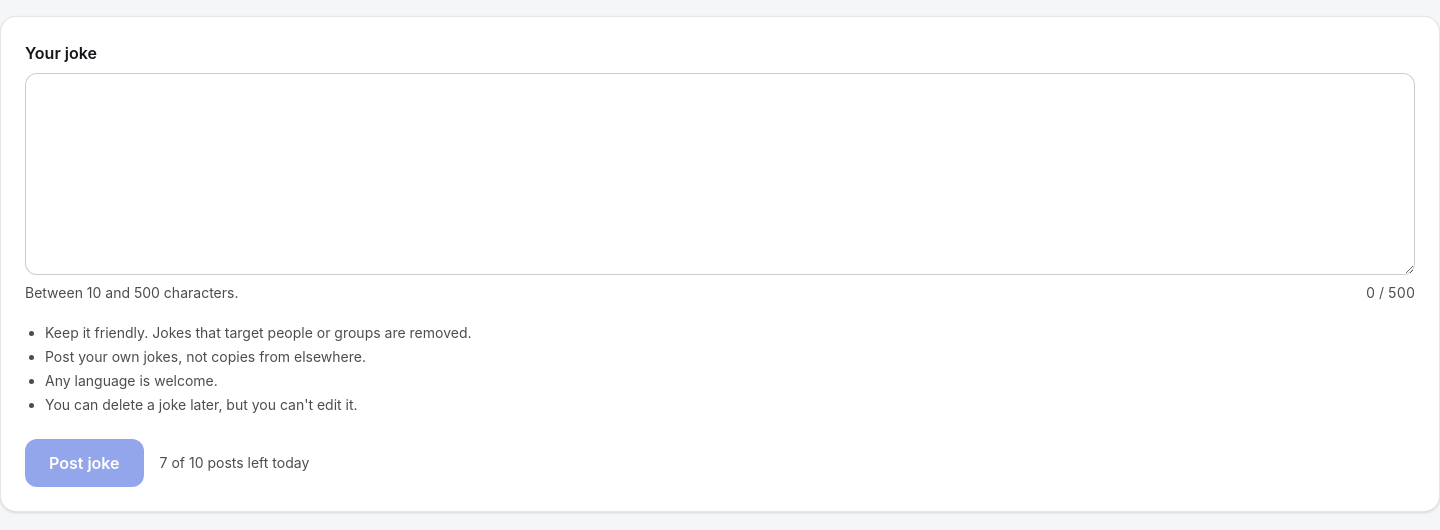
it: PostJokeForm › ignores surrounding spaces in the count
Click the text box labelled "Your joke": (720, 174) [25,73,1415,274]
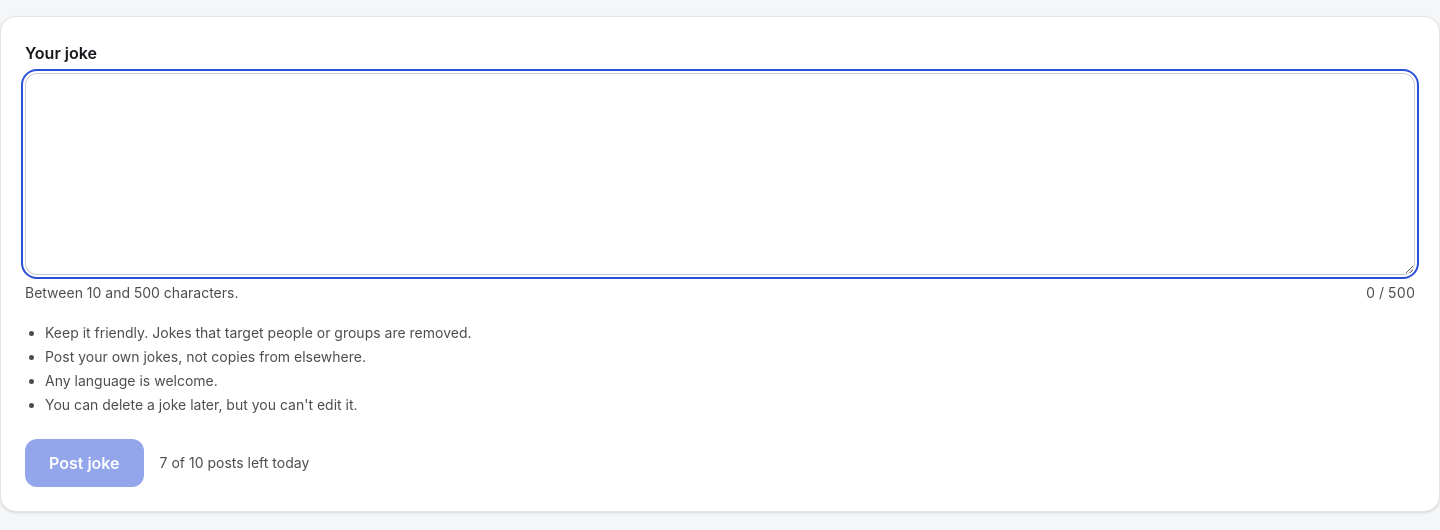
Type keys "     short    "
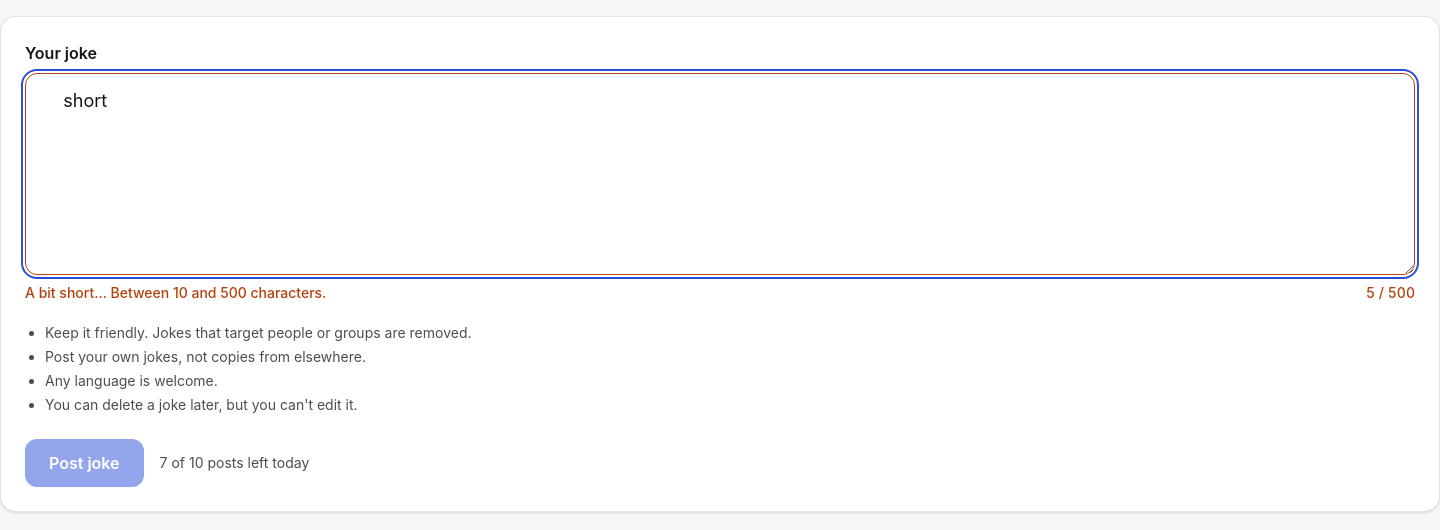
Expected: the button "Post joke" is disabled, [25,438,144,486]
Expected: the text "5 / 500" is shown, [1366,282,1415,302]
